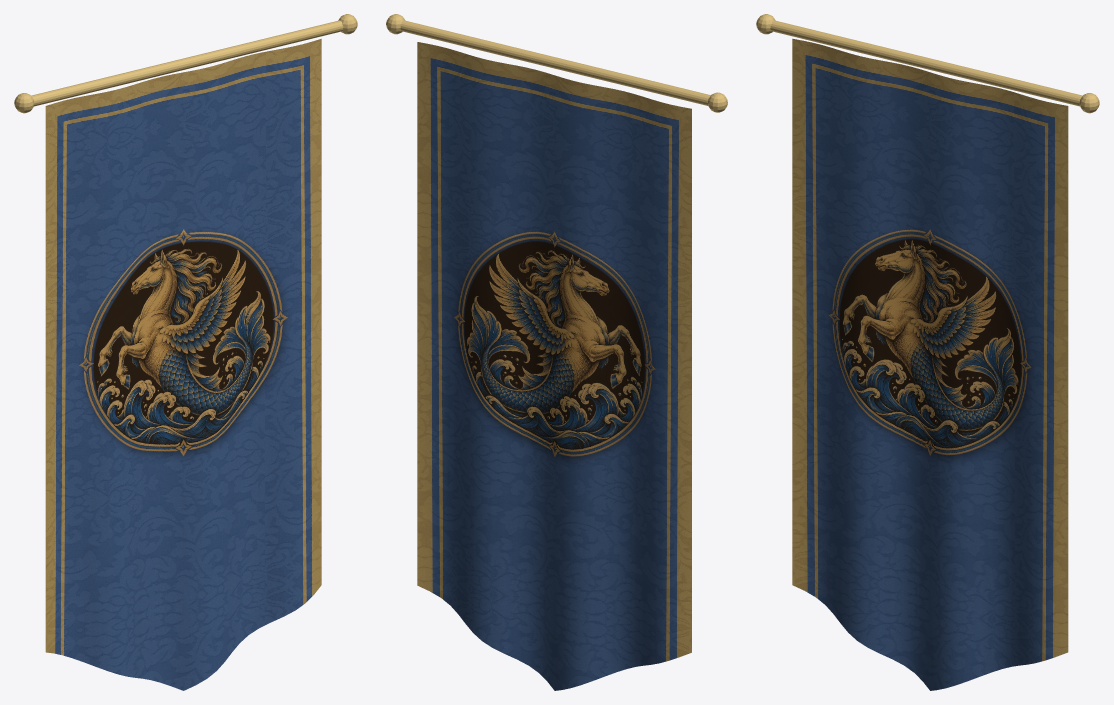
The model's file is banner_h4.glb.
3 views of the same model, side by side, from view 1: azimuth 30°, elevation 25°; view 2: azimuth 150°, elevation 25°; view 3: azimuth 330°, elevation 25° (orthographic).
Parts seen in each view (by area): view 1: banner_h4; view 2: banner_h4; view 3: banner_h4.
Part boxes in pixels (x1=…): banner_h4: x1=14, y1=14, x2=357, y2=690; banner_h4: x1=386, y1=14, x2=727, y2=690; banner_h4: x1=756, y1=14, x2=1099, y2=690.
Size of the model in its own units: 1.73 by 3.1 by 0.1.
Materials: 2 (1 with a texture image).
